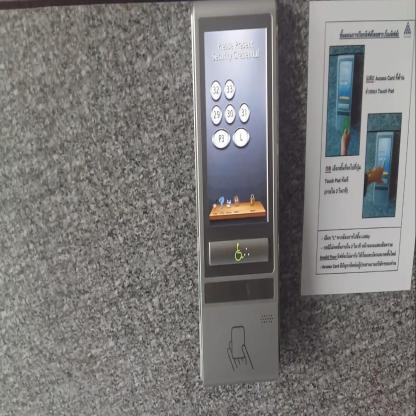29: (210, 103, 222, 125)
30: (224, 101, 236, 126)
31: (238, 100, 250, 124)
32: (210, 79, 221, 100)
33: (223, 78, 235, 100)
CH: (233, 240, 244, 262)
L: (232, 126, 251, 150)
P3: (212, 127, 232, 151)
speaker: (260, 312, 273, 324)
